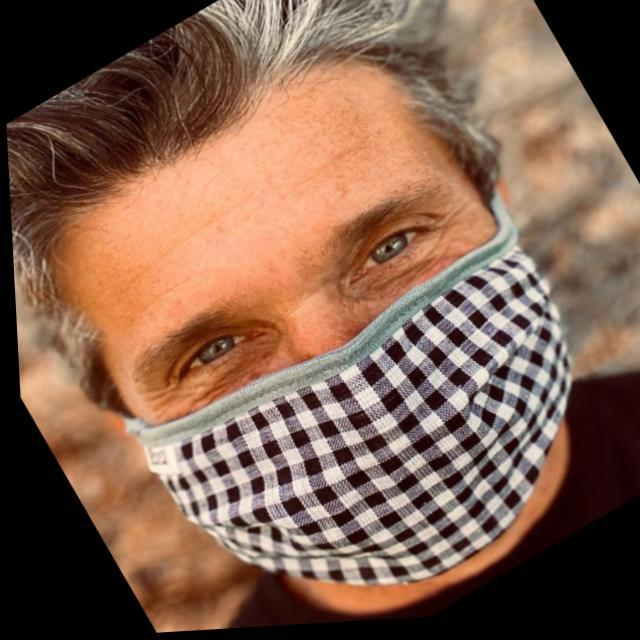Nonhelmet: (6, 0, 603, 596)
